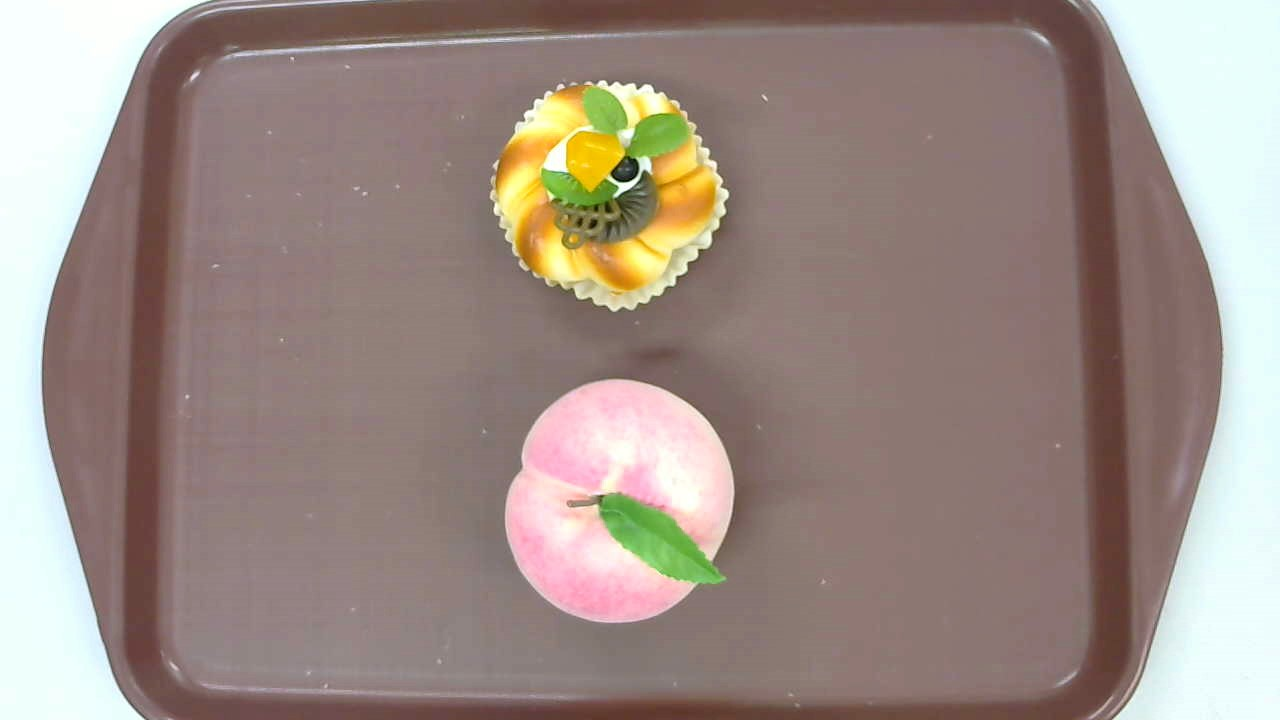fruit tart: (490, 78, 730, 312)
peach: (503, 378, 735, 622)
